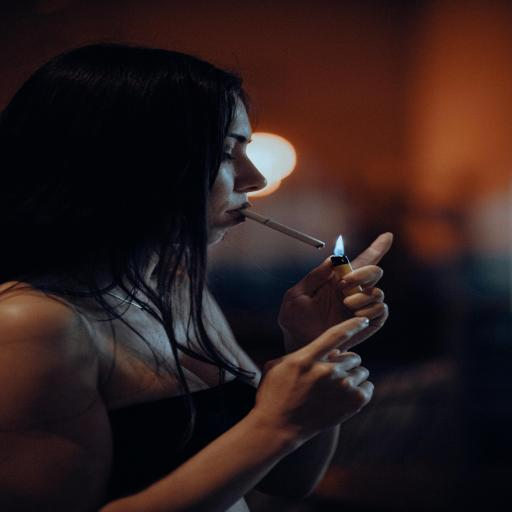terdeteksi merokok: (186, 107, 353, 265)
